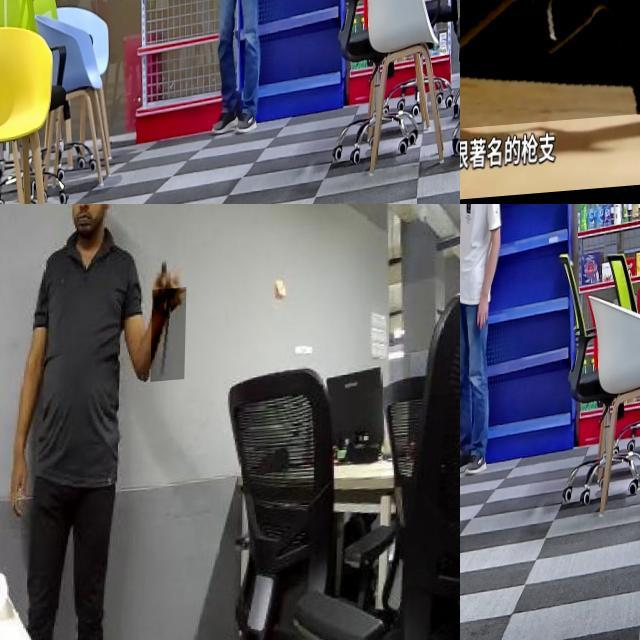-: (152, 293, 188, 387)
gun-knife-thesis - v11 Yolov5 augmented: (460, 0, 640, 196), (185, 0, 227, 27), (460, 258, 475, 300)
